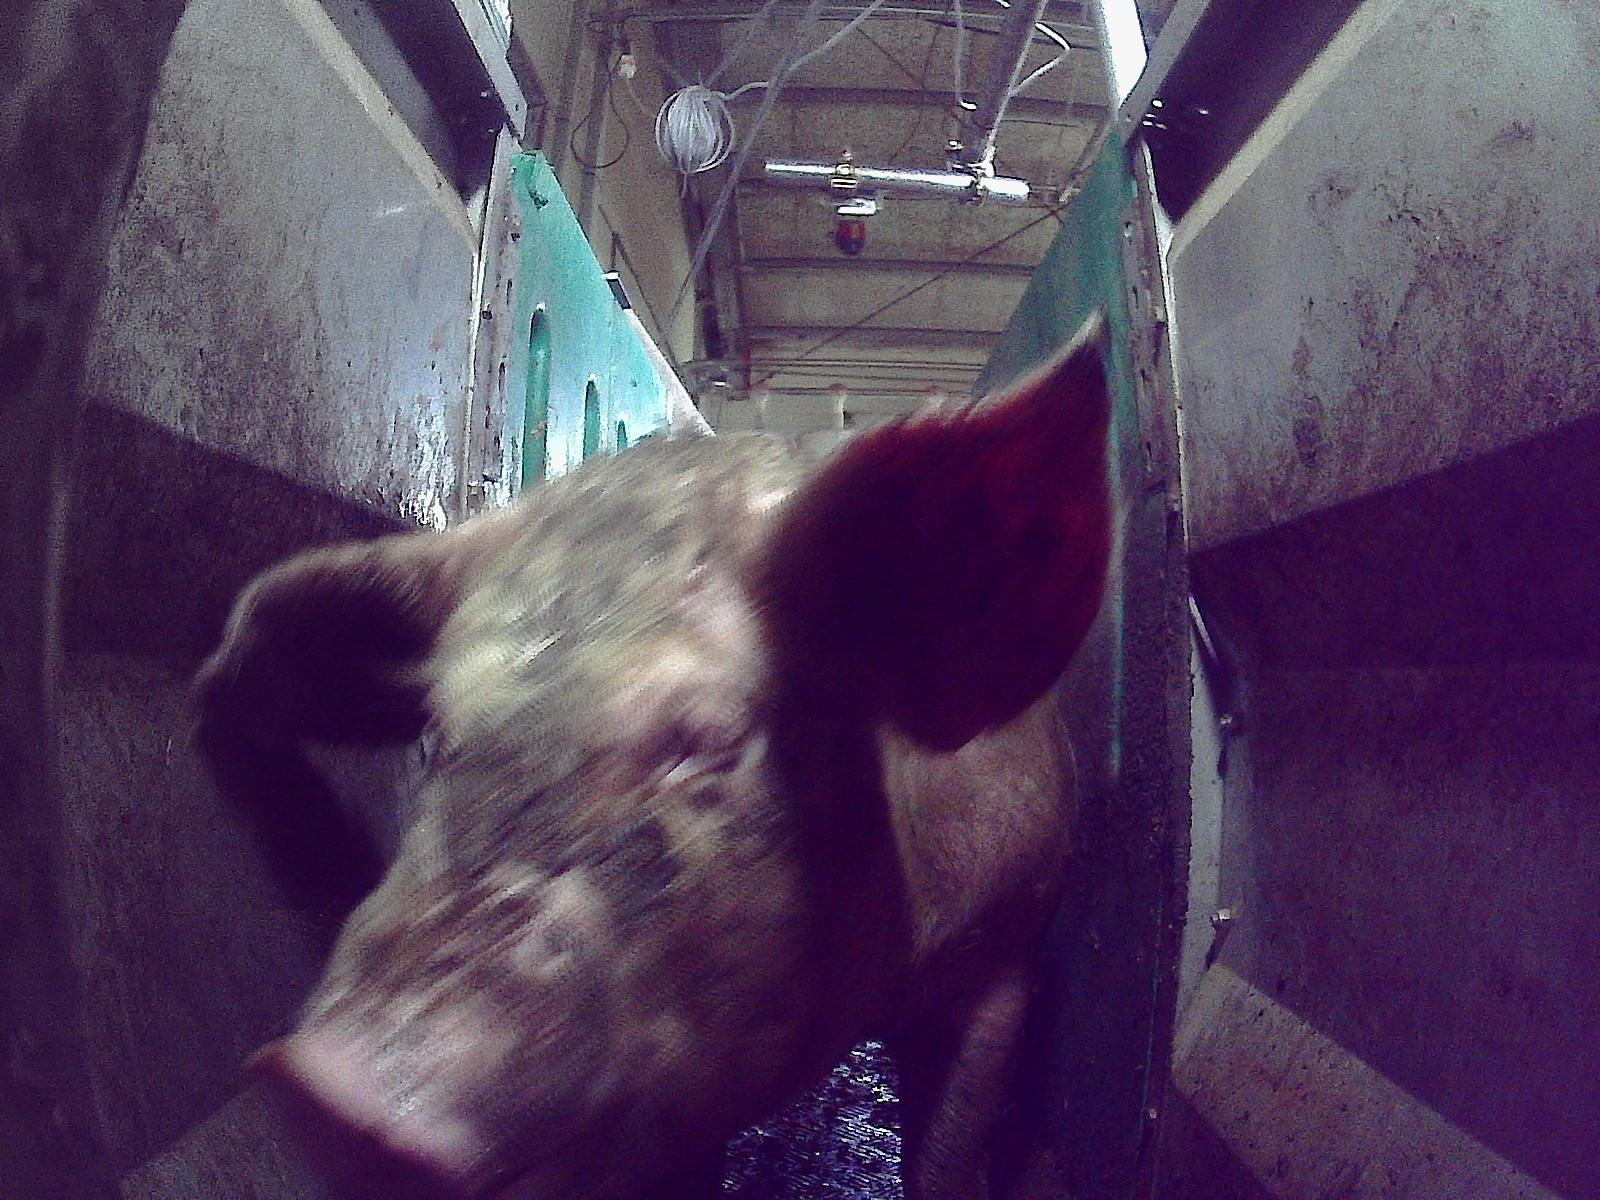Face: (247, 429, 929, 1192)
